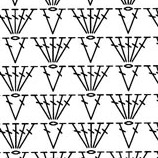enseble_chain: (121, 31, 158, 69), (46, 32, 82, 69), (81, 3, 117, 40), (82, 61, 119, 97), (47, 90, 82, 127), (122, 89, 157, 126), (10, 119, 45, 156), (7, 4, 42, 39), (11, 62, 44, 98), (66, 117, 97, 153), (28, 88, 58, 125), (28, 32, 58, 68), (103, 89, 131, 125), (118, 63, 148, 96), (43, 121, 72, 152), (118, 5, 146, 37), (45, 64, 72, 96), (68, 62, 94, 95), (43, 7, 71, 37), (83, 35, 109, 67), (84, 92, 110, 124), (108, 33, 133, 66), (9, 93, 34, 124), (122, 121, 147, 152), (9, 37, 34, 66), (75, 92, 97, 123), (86, 121, 104, 149)
fan: (5, 65, 23, 92), (11, 123, 27, 150)
